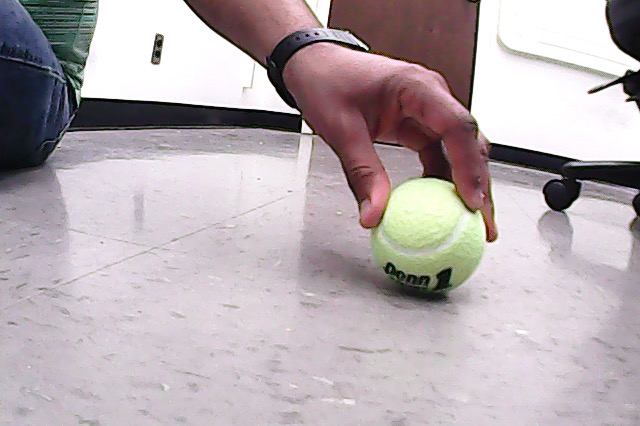ball: (370, 176, 489, 298)
